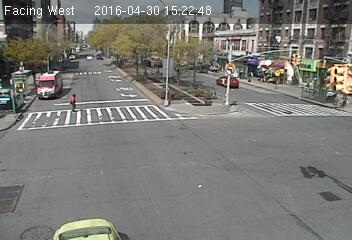neg: (175, 32, 192, 54), (113, 11, 130, 33), (270, 67, 285, 87), (66, 10, 79, 26), (158, 129, 170, 145), (206, 100, 218, 116), (321, 186, 333, 202), (301, 163, 312, 178), (224, 66, 234, 78), (45, 75, 53, 85), (41, 36, 48, 45)
pos: (66, 93, 82, 115), (337, 88, 351, 109)
